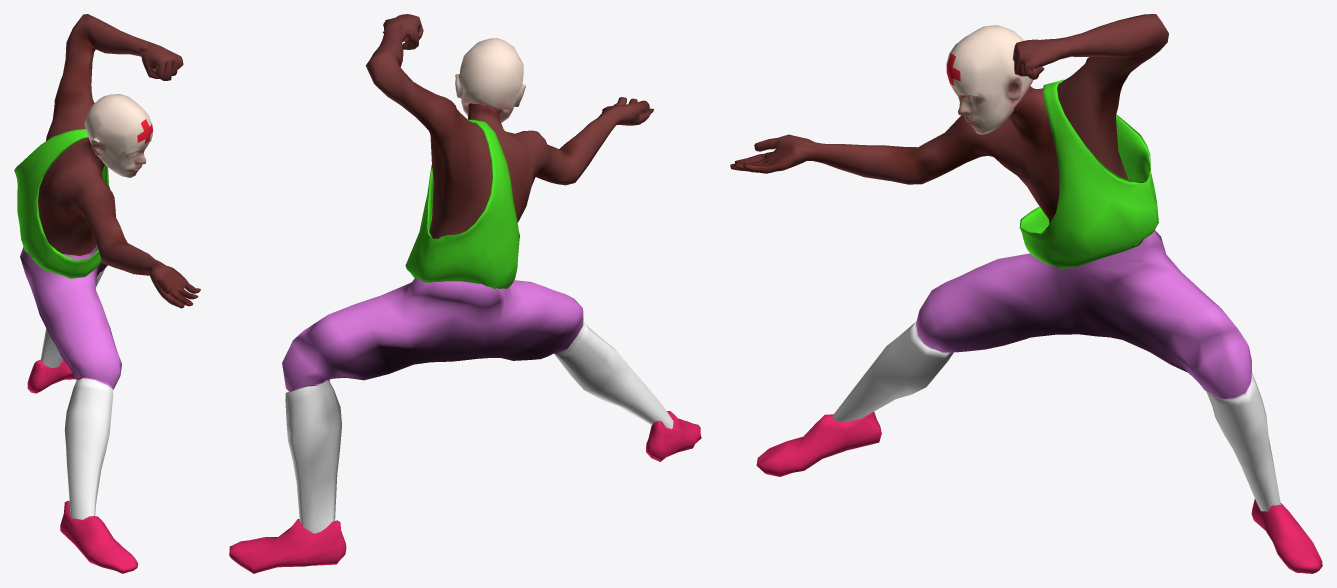
The model's file is charactermesh.fbx.
3 views of the same model, side by side, from view 1: azimuth 30°, elevation 25°; view 2: azimuth 150°, elevation 25°; view 3: azimuth 270°, elevation 25° (orthographic). The views are drawn at different scales.
Visible parts, largest first — view 1: charactermesh; view 2: charactermesh; view 3: charactermesh.
Boxes of the visible parts, box(x1,y1,x2,y2) form: charactermesh: box(14, 14, 200, 573); charactermesh: box(229, 14, 701, 573); charactermesh: box(730, 14, 1322, 573).
Size of the model in its own units: 7.99 by 15.33 by 15.61.
